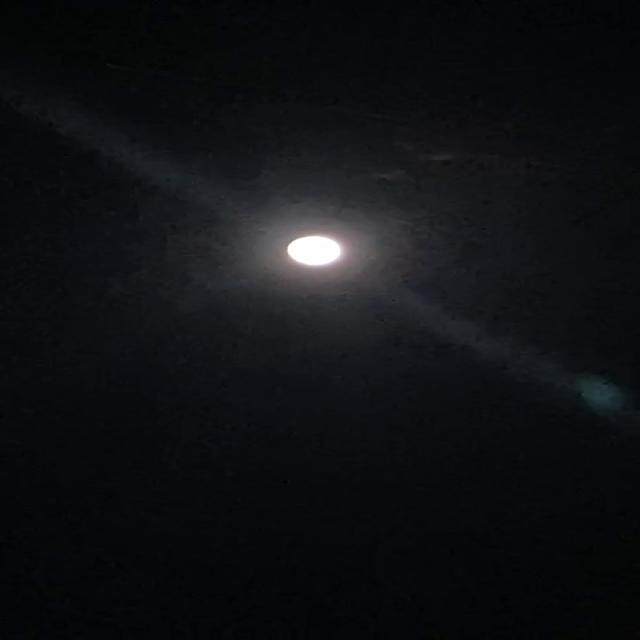moon: (228, 210, 356, 281)
